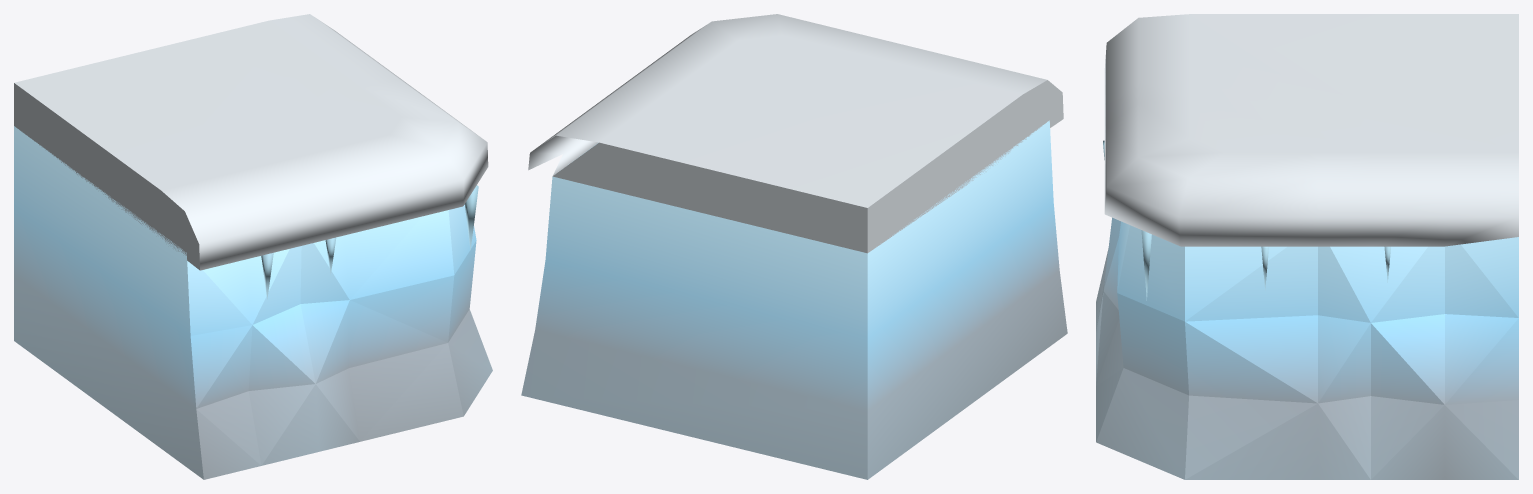
Rendered from Env_Cliff_Corner.glb.
The picture shows the model from 3 angles, left to right: view 1: azimuth 30°, elevation 25°; view 2: azimuth 150°, elevation 25°; view 3: azimuth 270°, elevation 25°; orthographic projection. The views are drawn at different scales.
Visible parts, largest first — view 1: Cliff_Corner_Wall, Cliff_Corner_Snow, Cliff_Corner_Icicles; view 2: Cliff_Corner_Wall, Cliff_Corner_Snow; view 3: Cliff_Corner_Wall, Cliff_Corner_Snow, Cliff_Corner_Icicles.
Part boxes in pixels (left/top/right/bottom): Cliff_Corner_Wall: left=14, top=126, right=492, bottom=479; Cliff_Corner_Snow: left=14, top=14, right=488, bottom=270; Cliff_Corner_Icicles: left=261, top=185, right=478, bottom=299; Cliff_Corner_Wall: left=521, top=120, right=1067, bottom=479; Cliff_Corner_Snow: left=528, top=14, right=1063, bottom=253; Cliff_Corner_Wall: left=1096, top=217, right=1518, bottom=479; Cliff_Corner_Snow: left=1104, top=14, right=1518, bottom=246; Cliff_Corner_Icicles: left=1103, top=140, right=1390, bottom=300.
Size of the model in its own units: 2 by 1.5 by 2.
